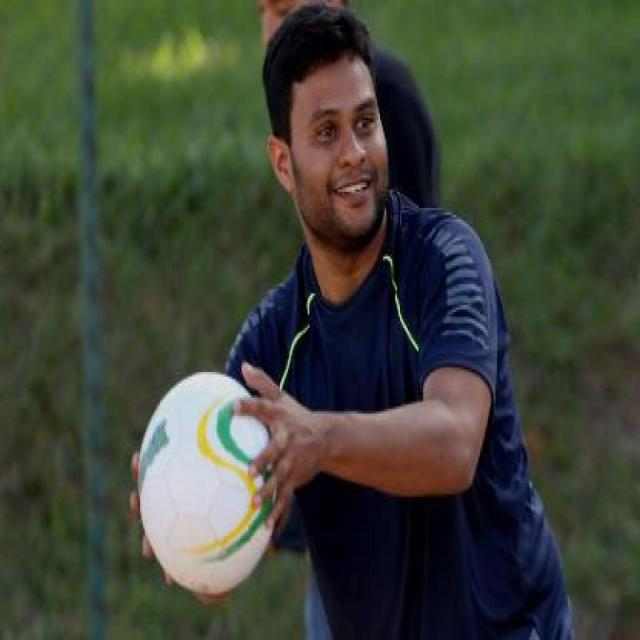volleyball: (137, 370, 275, 596)
